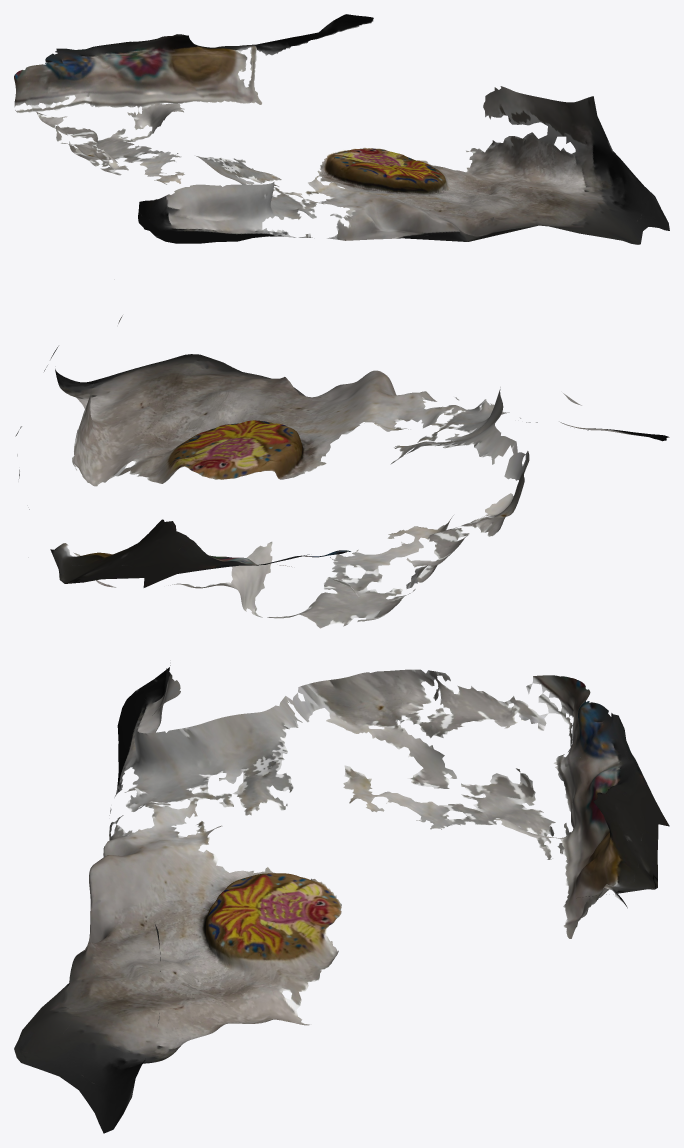
3 views of the same model, one above another, from view 1: azimuth 30°, elevation 25°; view 2: azimuth 150°, elevation 25°; view 3: azimuth 270°, elevation 25° (orthographic). The views are drawn at different scales.
Size of the model in its own units: 0.8564 by 0.2128 by 0.7582.
1 material, 1 textured.
